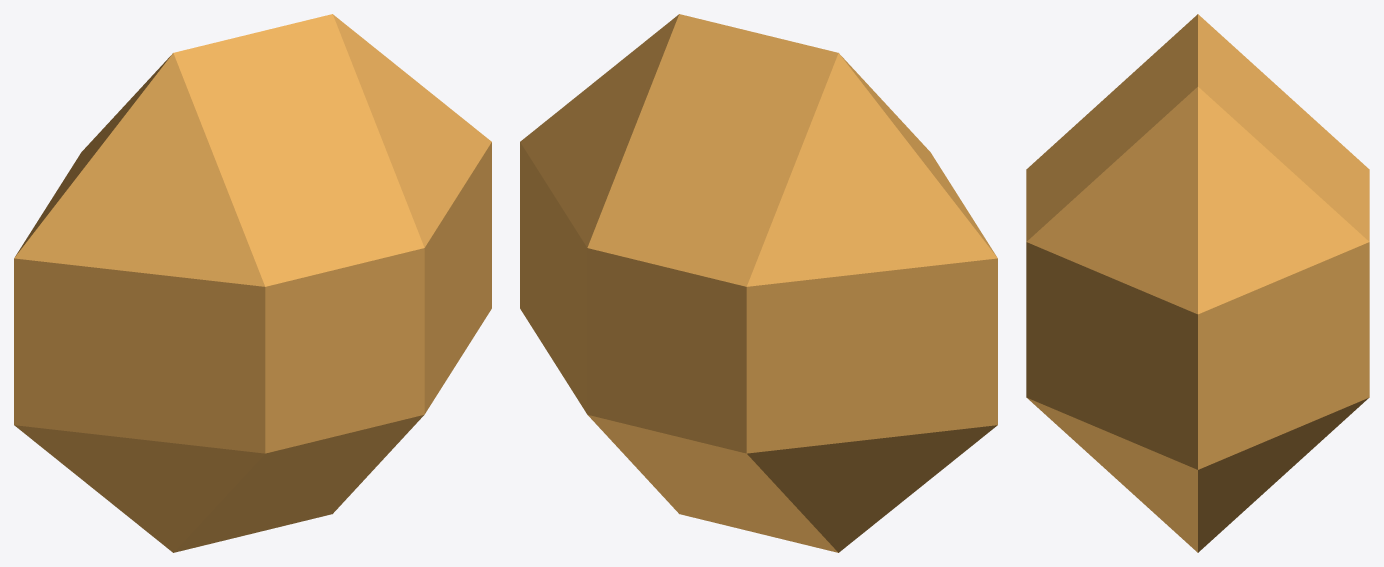
File: Gem_04.fbx
3 renders of one model, left to right at view 1: azimuth 30°, elevation 25°; view 2: azimuth 150°, elevation 25°; view 3: azimuth 270°, elevation 25°, orthographic. The views are drawn at different scales.
Parts seen in each view (by area): view 1: Gem_04; view 2: Gem_04; view 3: Gem_04.
Boxes of the visible parts, x1=… form: Gem_04: x1=14, y1=14, x2=491, y2=552; Gem_04: x1=520, y1=14, x2=997, y2=552; Gem_04: x1=1026, y1=14, x2=1369, y2=552.
Size of the model in its own units: 300 by 300 by 200.
